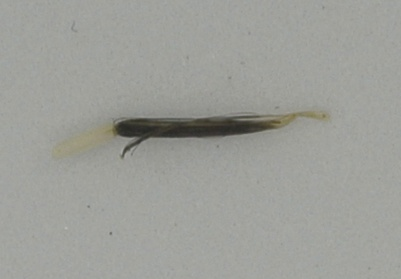เมล้ดปลายพู่กัน: (49, 106, 332, 163)
